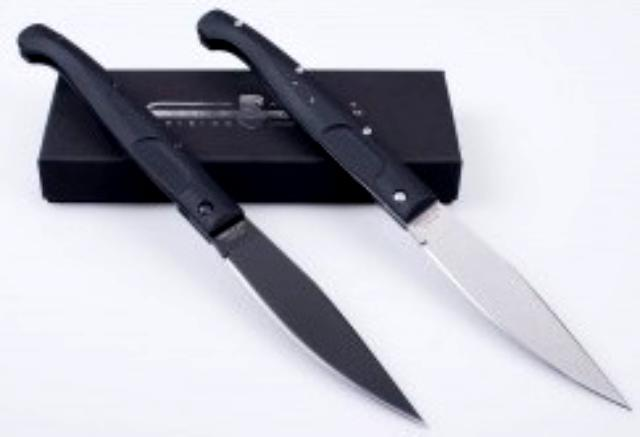pocket-knife: (195, 10, 638, 428), (10, 17, 424, 427)
